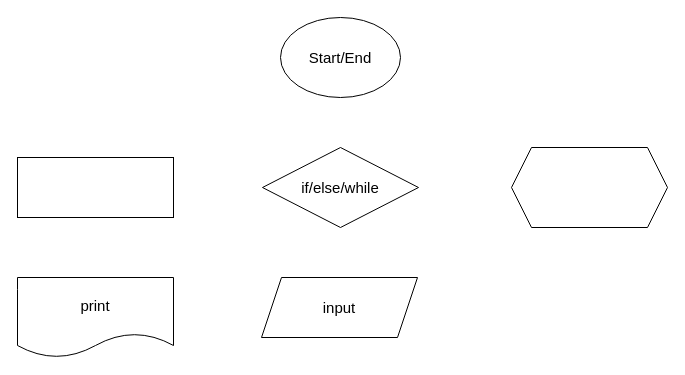
The diagram is 685 pixels wide and 375 high, and some of its shapes have lost their labels. Each missing label, with the box of its shape:
count = 0: (16, 156, 174, 218)
for: (510, 146, 668, 228)
